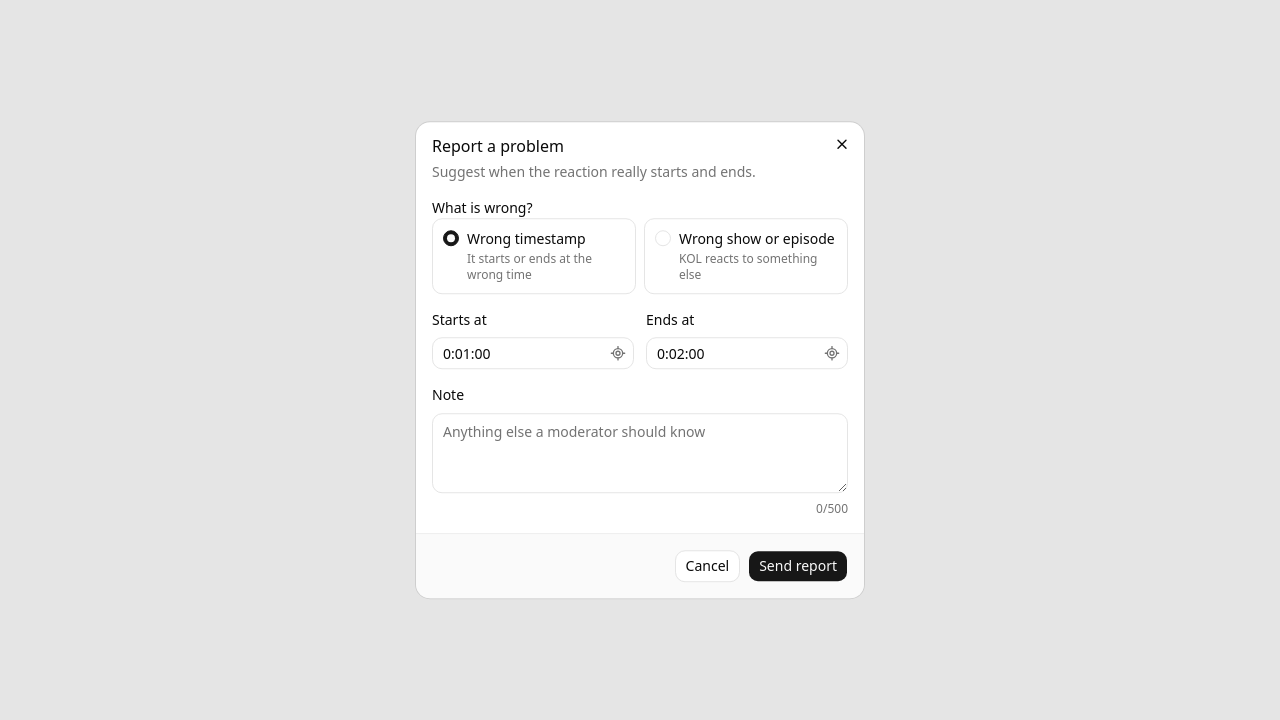
Scenario: reportDialog › cannot send times that end before they start
Replace the text in the field labelled "Ends at" with "0:01:00" at (733, 354), box [647, 338, 820, 370]
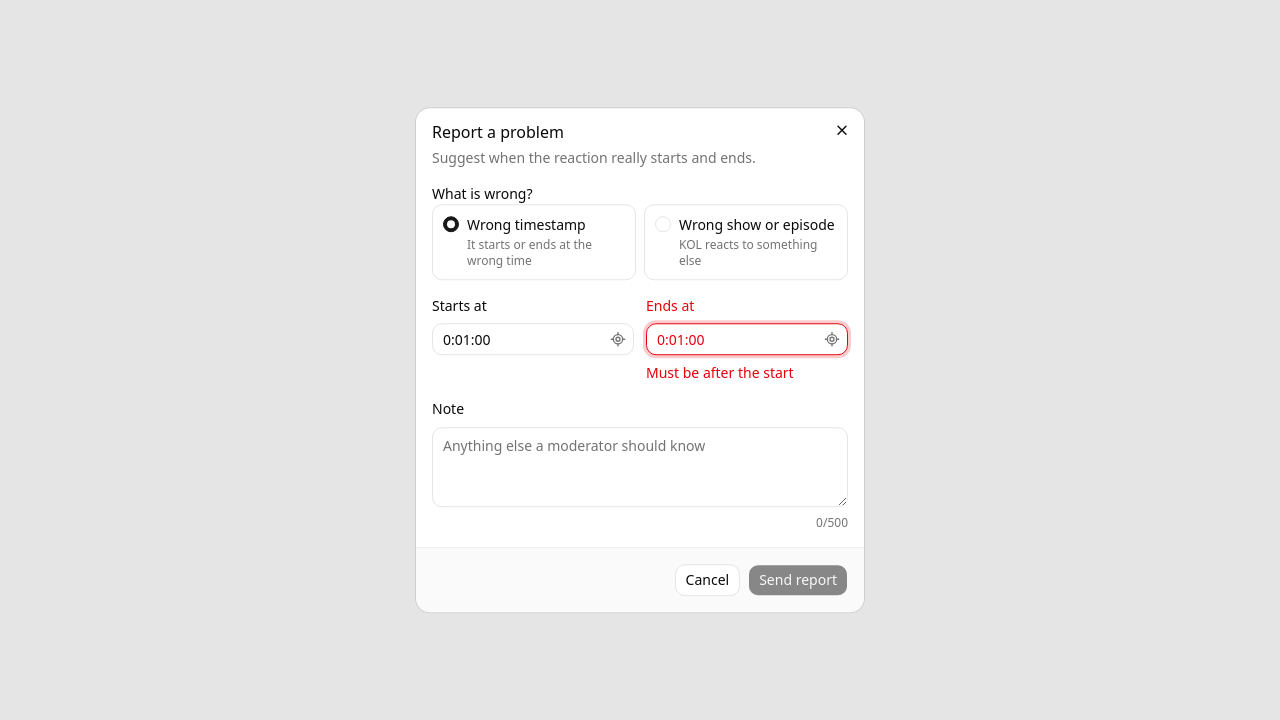
Check: the message reads "Must be after the start", box [646, 364, 794, 382]
Check: the button "Send report" is disabled, box [748, 564, 848, 596]
Replace the text in the field labelled "Ends at" with "0:01:01" at (733, 340), box [647, 324, 820, 356]
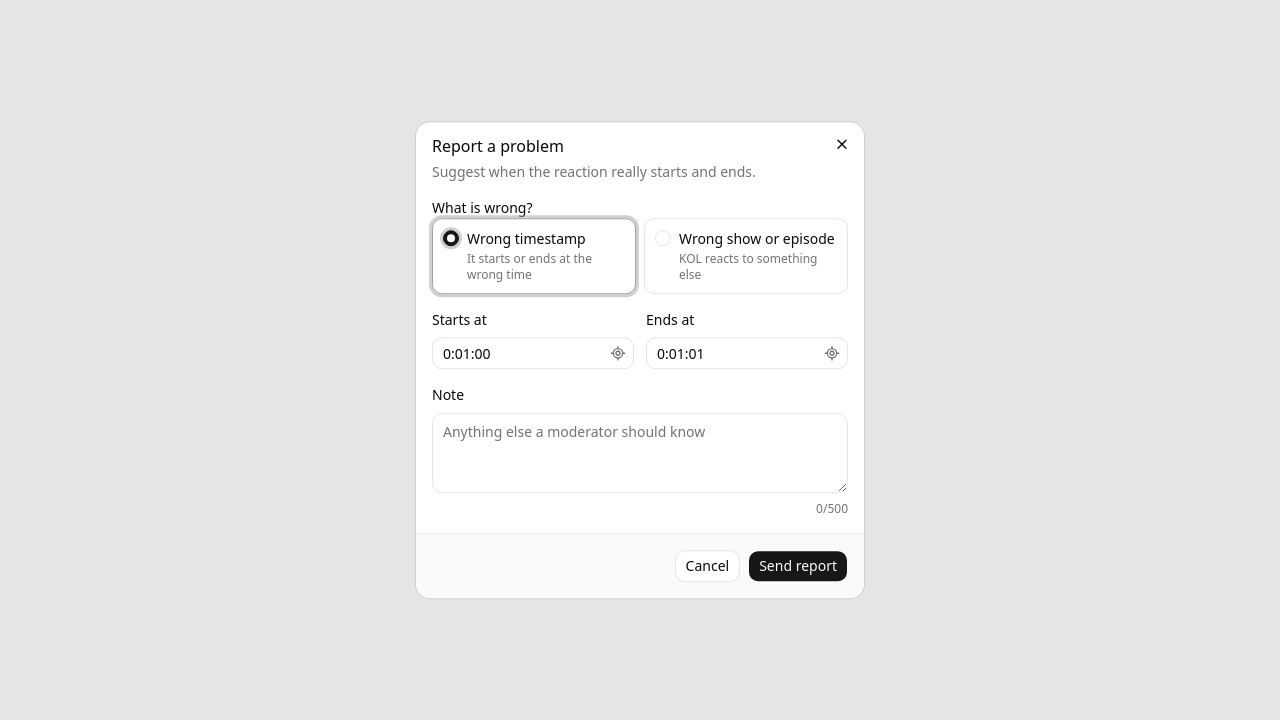
Check: the message "Must be after the start" is gone
Check: the button "Send report" is enabled, box [748, 550, 848, 582]
